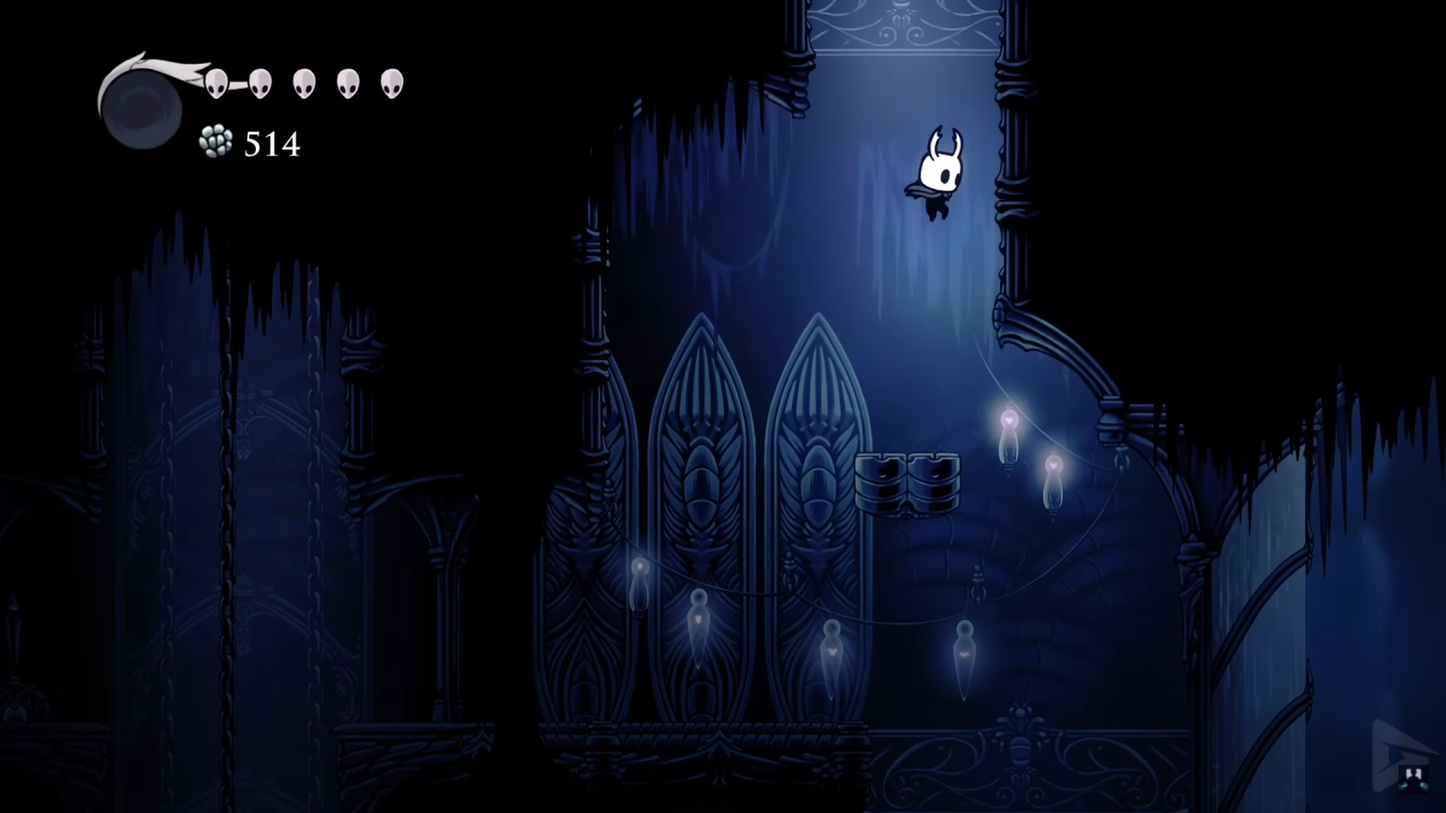HK: (908, 123, 966, 224)
